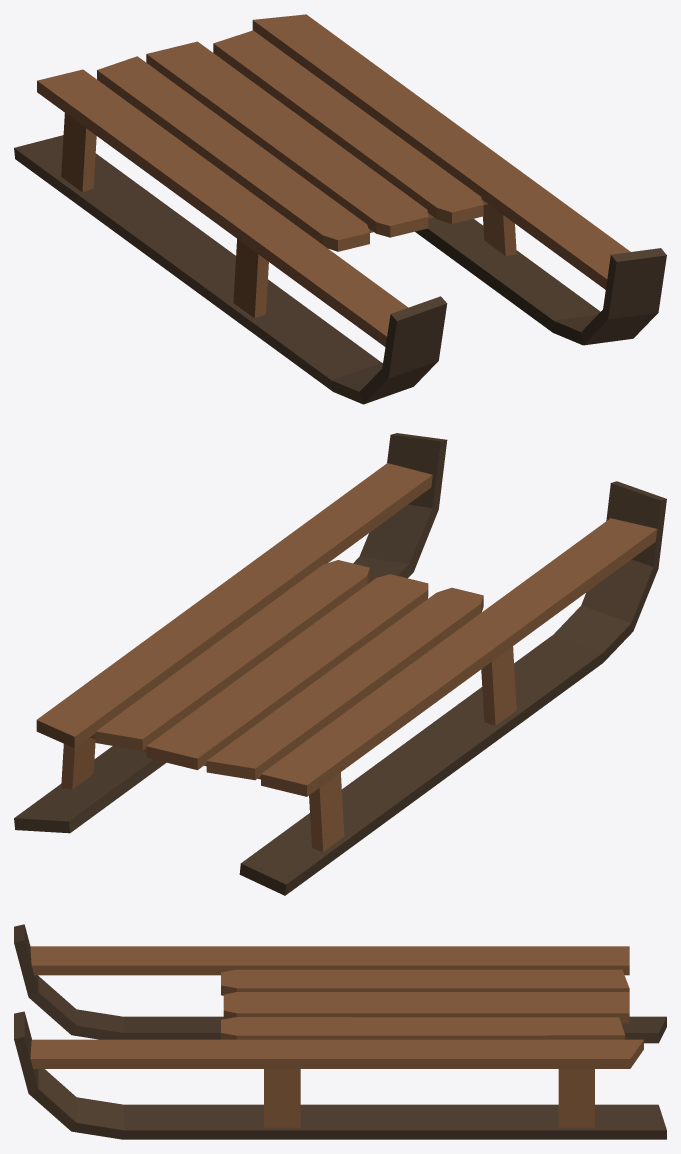
Rendered from sledge.glb.
3 renders of one model, top to bottom at view 1: azimuth 30°, elevation 25°; view 2: azimuth 150°, elevation 25°; view 3: azimuth 270°, elevation 25°, orthographic. The views are drawn at different scales.
Parts seen in each view (by area): view 1: sledge; view 2: sledge; view 3: sledge.
Part boxes in pixels (left/top/right/bottom): sledge: left=14, top=14, right=666, bottom=404; sledge: left=14, top=433, right=666, bottom=895; sledge: left=14, top=924, right=666, bottom=1139.
Size of the model in its own units: 1.01 by 0.445 by 2.45.
Materials: 1 (1 with a texture image).
